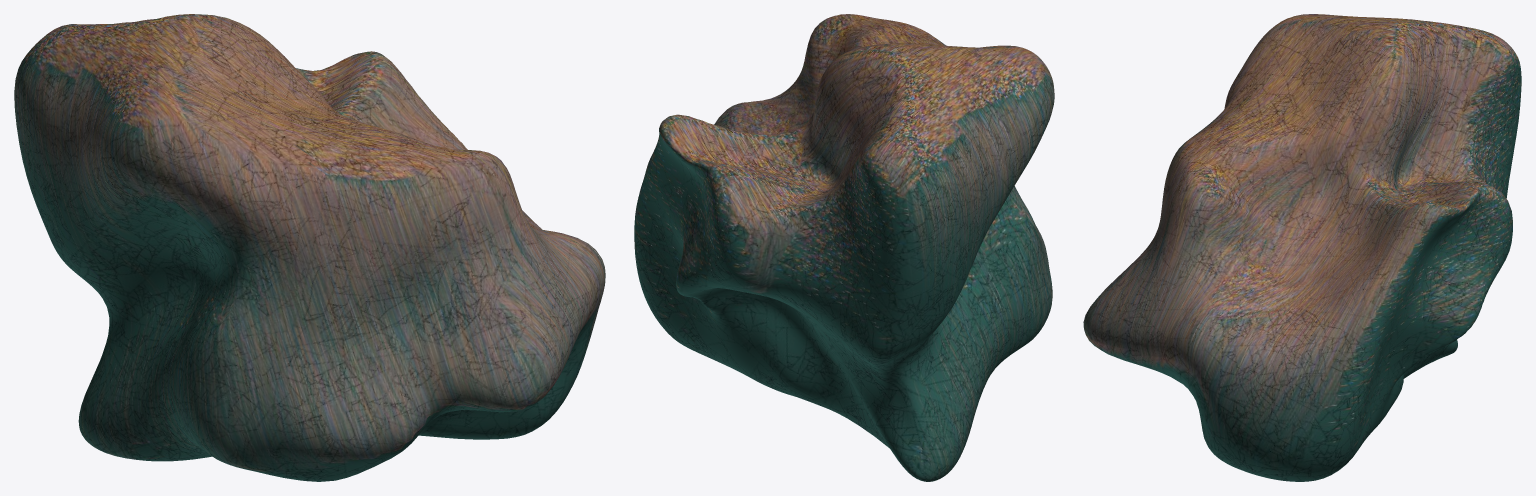
Rendered from stone.glb.
The picture shows the model from 3 angles, left to right: view 1: azimuth 30°, elevation 25°; view 2: azimuth 150°, elevation 25°; view 3: azimuth 270°, elevation 25°; orthographic projection. The views are drawn at different scales.
Visible parts, largest first — view 1: Cube; view 2: Cube; view 3: Cube.
Boxes of the visible parts, <box> form: Cube: <box>14,14,605,481</box>; Cube: <box>634,14,1054,481</box>; Cube: <box>1083,14,1521,481</box>.
Size of the model in its own units: 3.98 by 3.76 by 4.18.
1 material, 1 textured.
